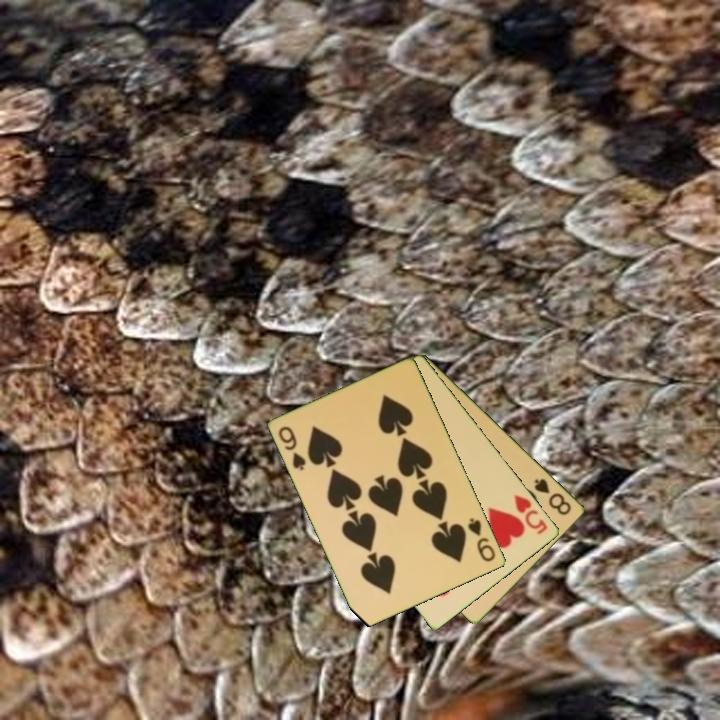5h: (511, 491, 551, 538)
8s: (531, 475, 575, 518)
9s: (464, 515, 499, 565), (275, 423, 309, 474)
